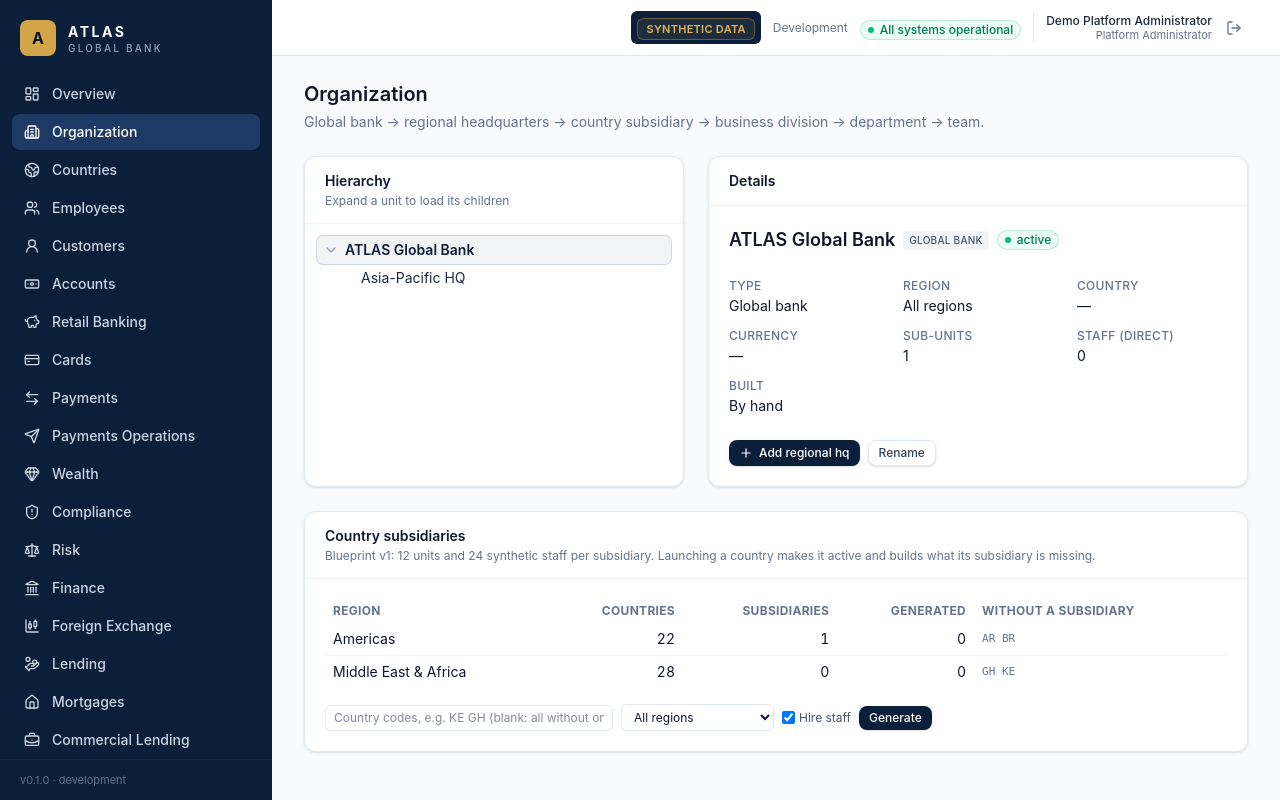
it: Organization page › surfaces business-rule violations from the API
The width and height of the screenshot is (1280, 800).
Click the button "Add regional hq" at (794, 453), box [729, 440, 860, 466]
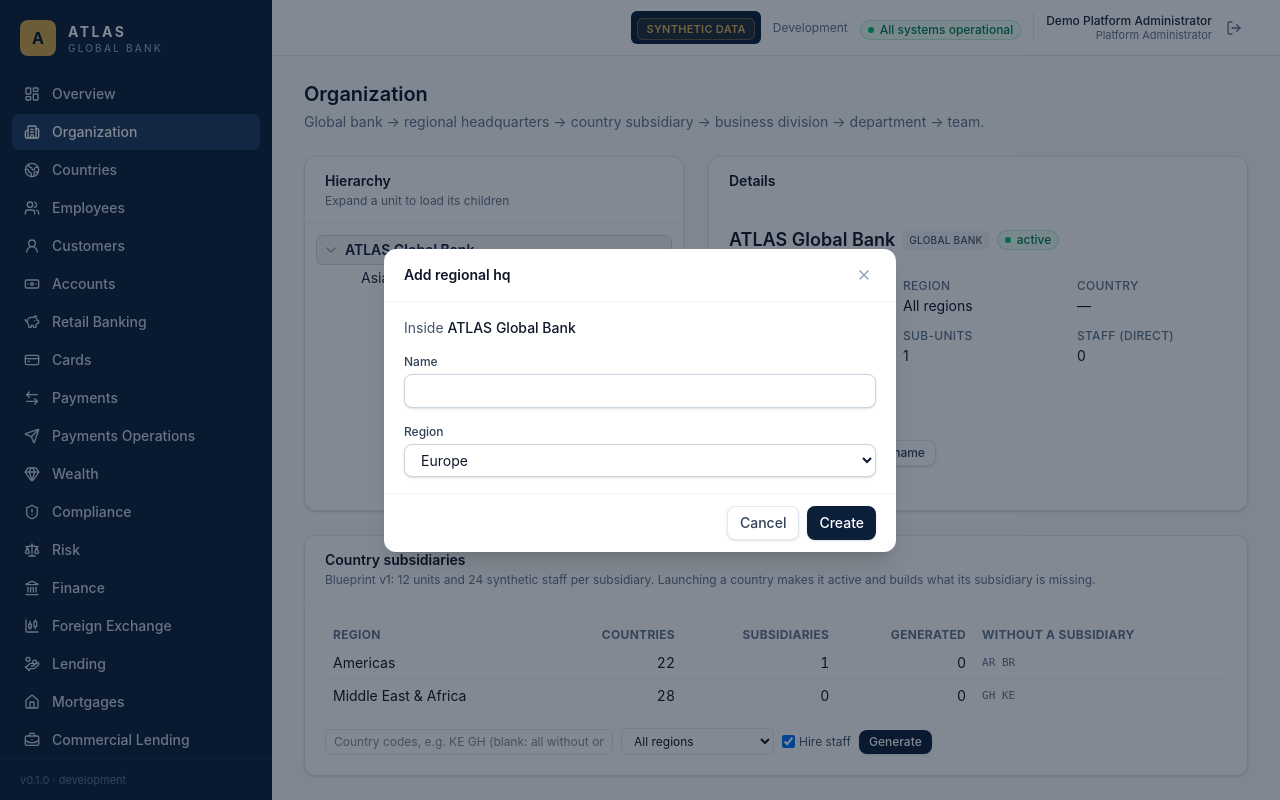
Type "Middle East HQ" into the field labelled "Name" at (640, 390), box [404, 374, 876, 408]
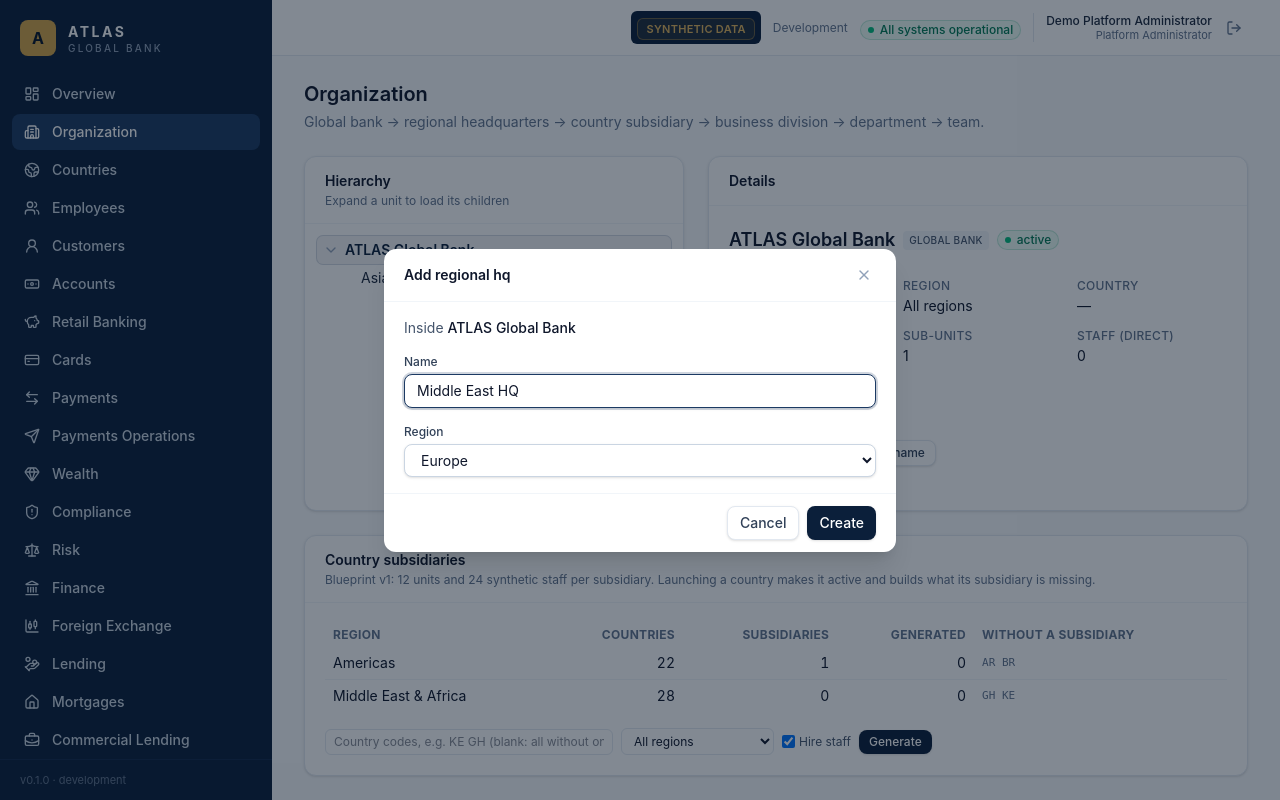
Click the button "Create" at (842, 522), box [807, 506, 876, 540]
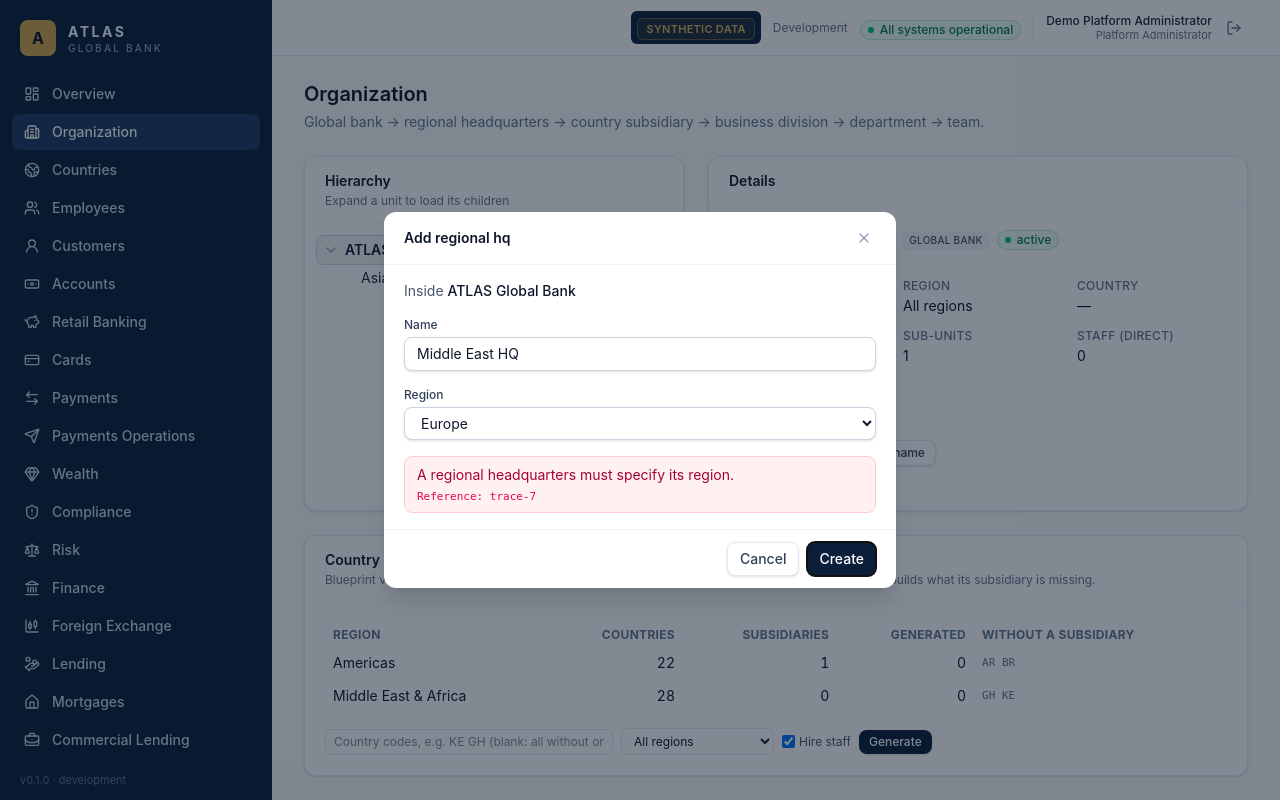
Expected: the message shows "A regional headquarters must specify its region.", [417, 466, 734, 483]
